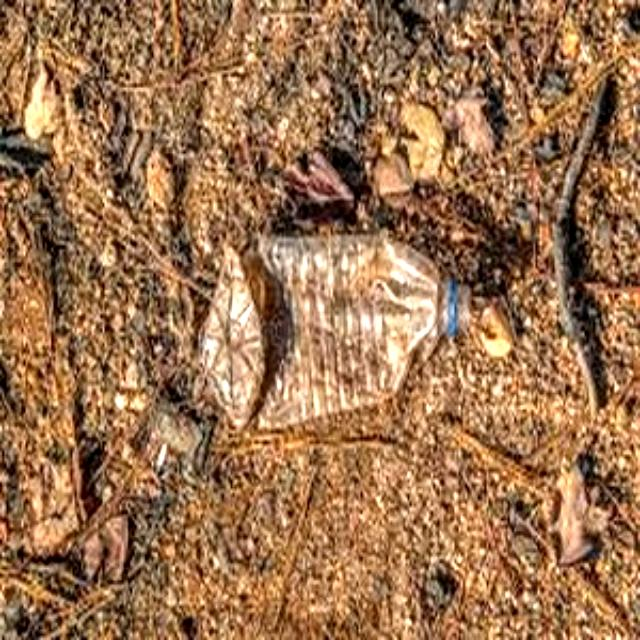Plastic: (203, 224, 474, 430)
